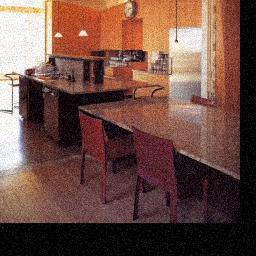Electrodomestico: (170, 29, 201, 96)
